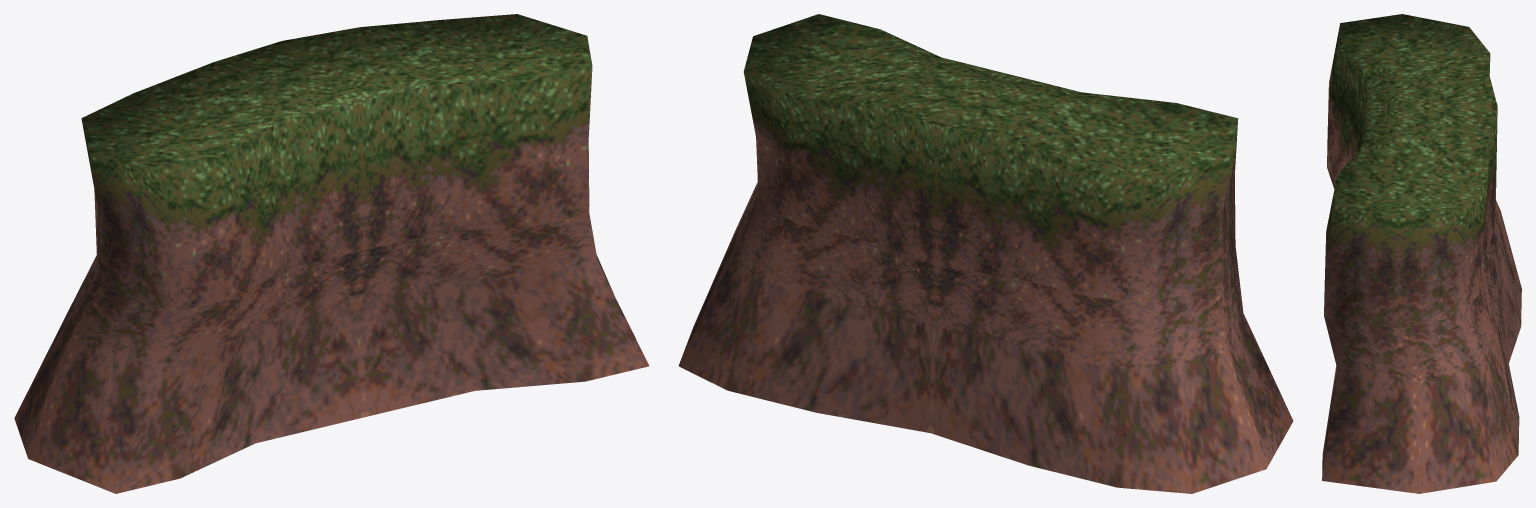
The model's file is cliff3.fbx.
3 views of the same model, side by side, from view 1: azimuth 30°, elevation 25°; view 2: azimuth 150°, elevation 25°; view 3: azimuth 270°, elevation 25° (orthographic). The views are drawn at different scales.
Parts seen in each view (by area): view 1: cliff3; view 2: cliff3; view 3: cliff3.
Part boxes in pixels (x1,y1,x2,y2): cliff3: [14, 14, 649, 493]; cliff3: [678, 14, 1293, 493]; cliff3: [1322, 14, 1521, 493].
Bounding box in the file's own units: 719 × 364 × 248.
Materials: 1 (1 with a texture image).
